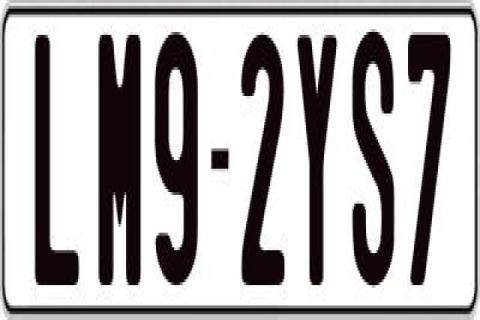0: (240, 35, 284, 303), (152, 32, 194, 302), (408, 26, 450, 294)
L: (33, 29, 77, 291)
M: (96, 27, 146, 280)
S: (350, 26, 394, 288)
Y: (298, 29, 344, 291)
